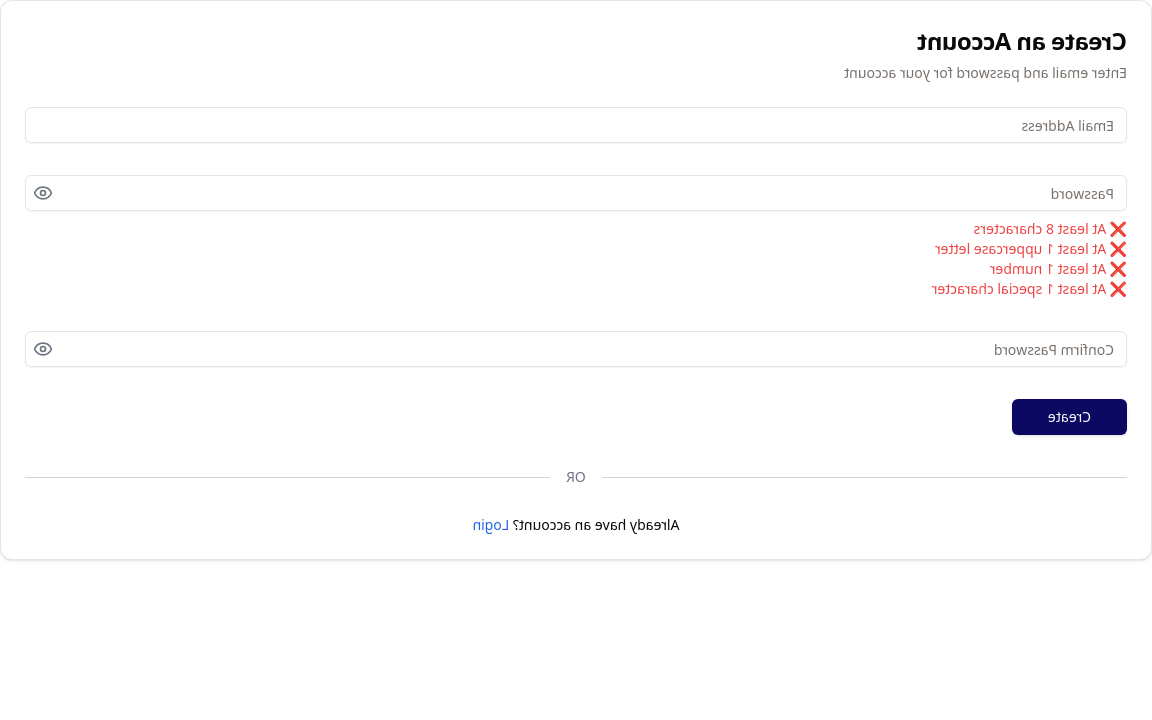
it: CreateForm Component › validates password requirements
The image size is (1152, 720).
Step 1. Type "short" into the password field with placeholder "Password" → (576, 193), box [25,175,1127,211]
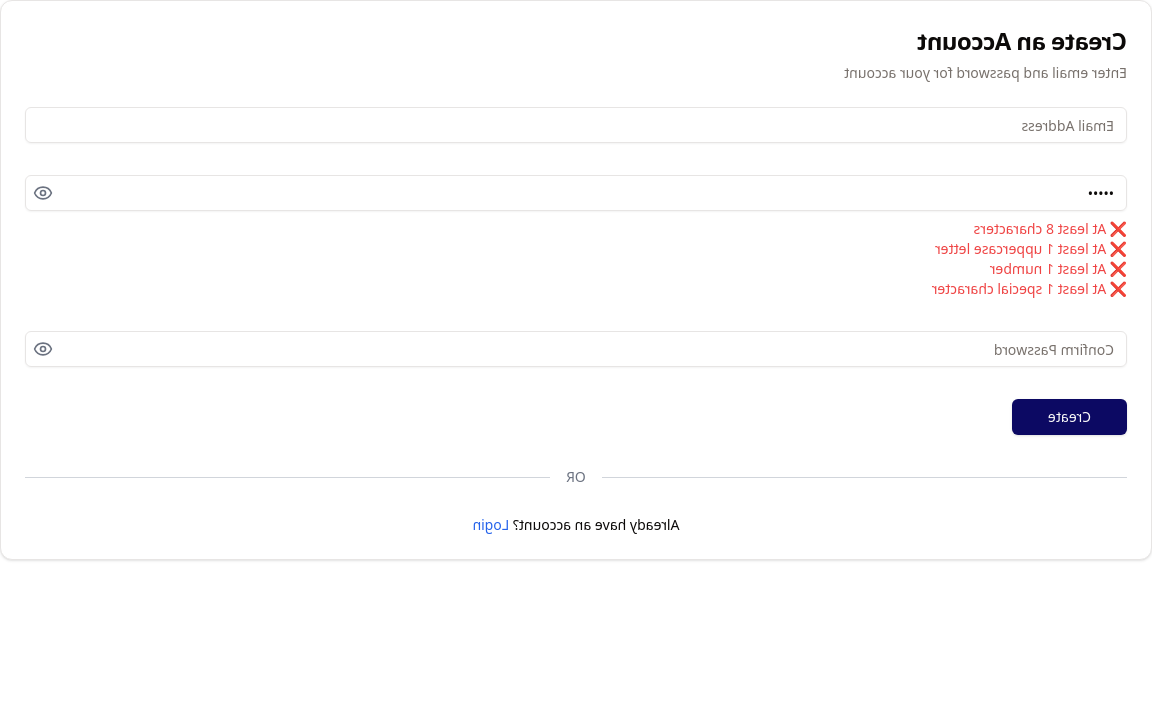
Expected: the text "❌ At least 8 characters" is shown, [974,219,1127,238]
Expected: the text "❌ At least 1 uppercase letter" is shown, [935,239,1127,258]
Step 2. Type "Password123!" into the password field with placeholder "Password" → (576, 193), box [25,175,1127,211]
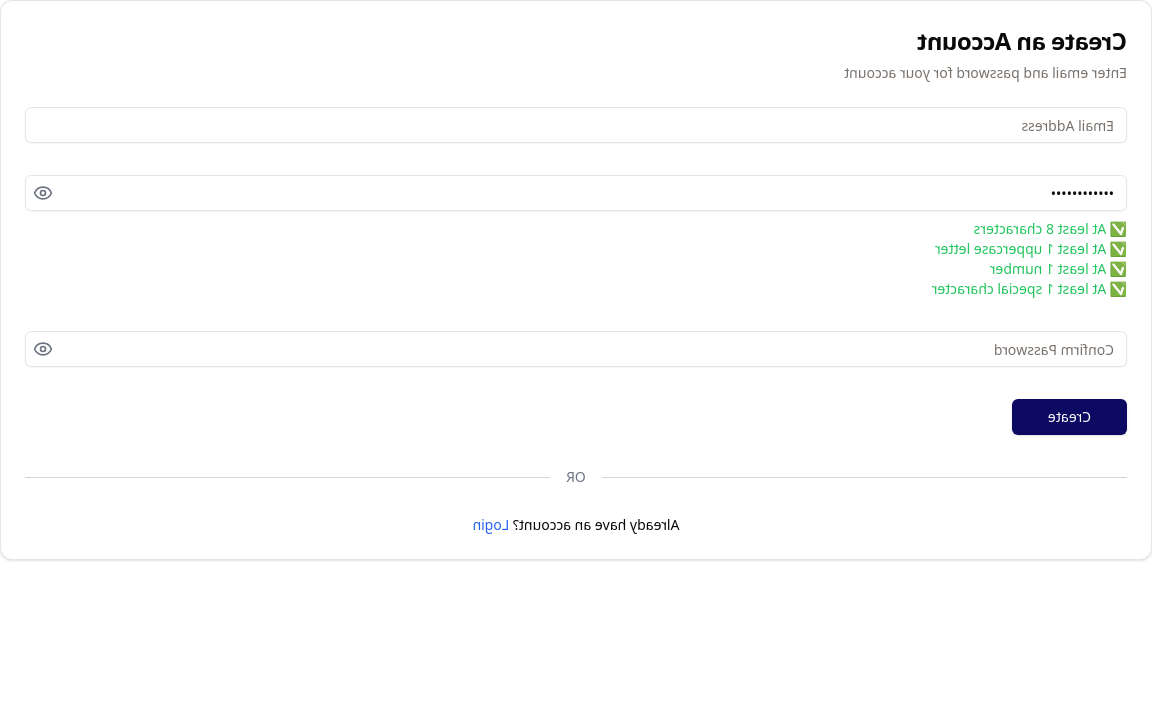
Expected: the text "✅ At least 8 characters" is shown, [974,219,1127,238]
Expected: the text "✅ At least 1 uppercase letter" is shown, [935,239,1127,258]
Expected: the text "✅ At least 1 number" is shown, [990,259,1127,278]
